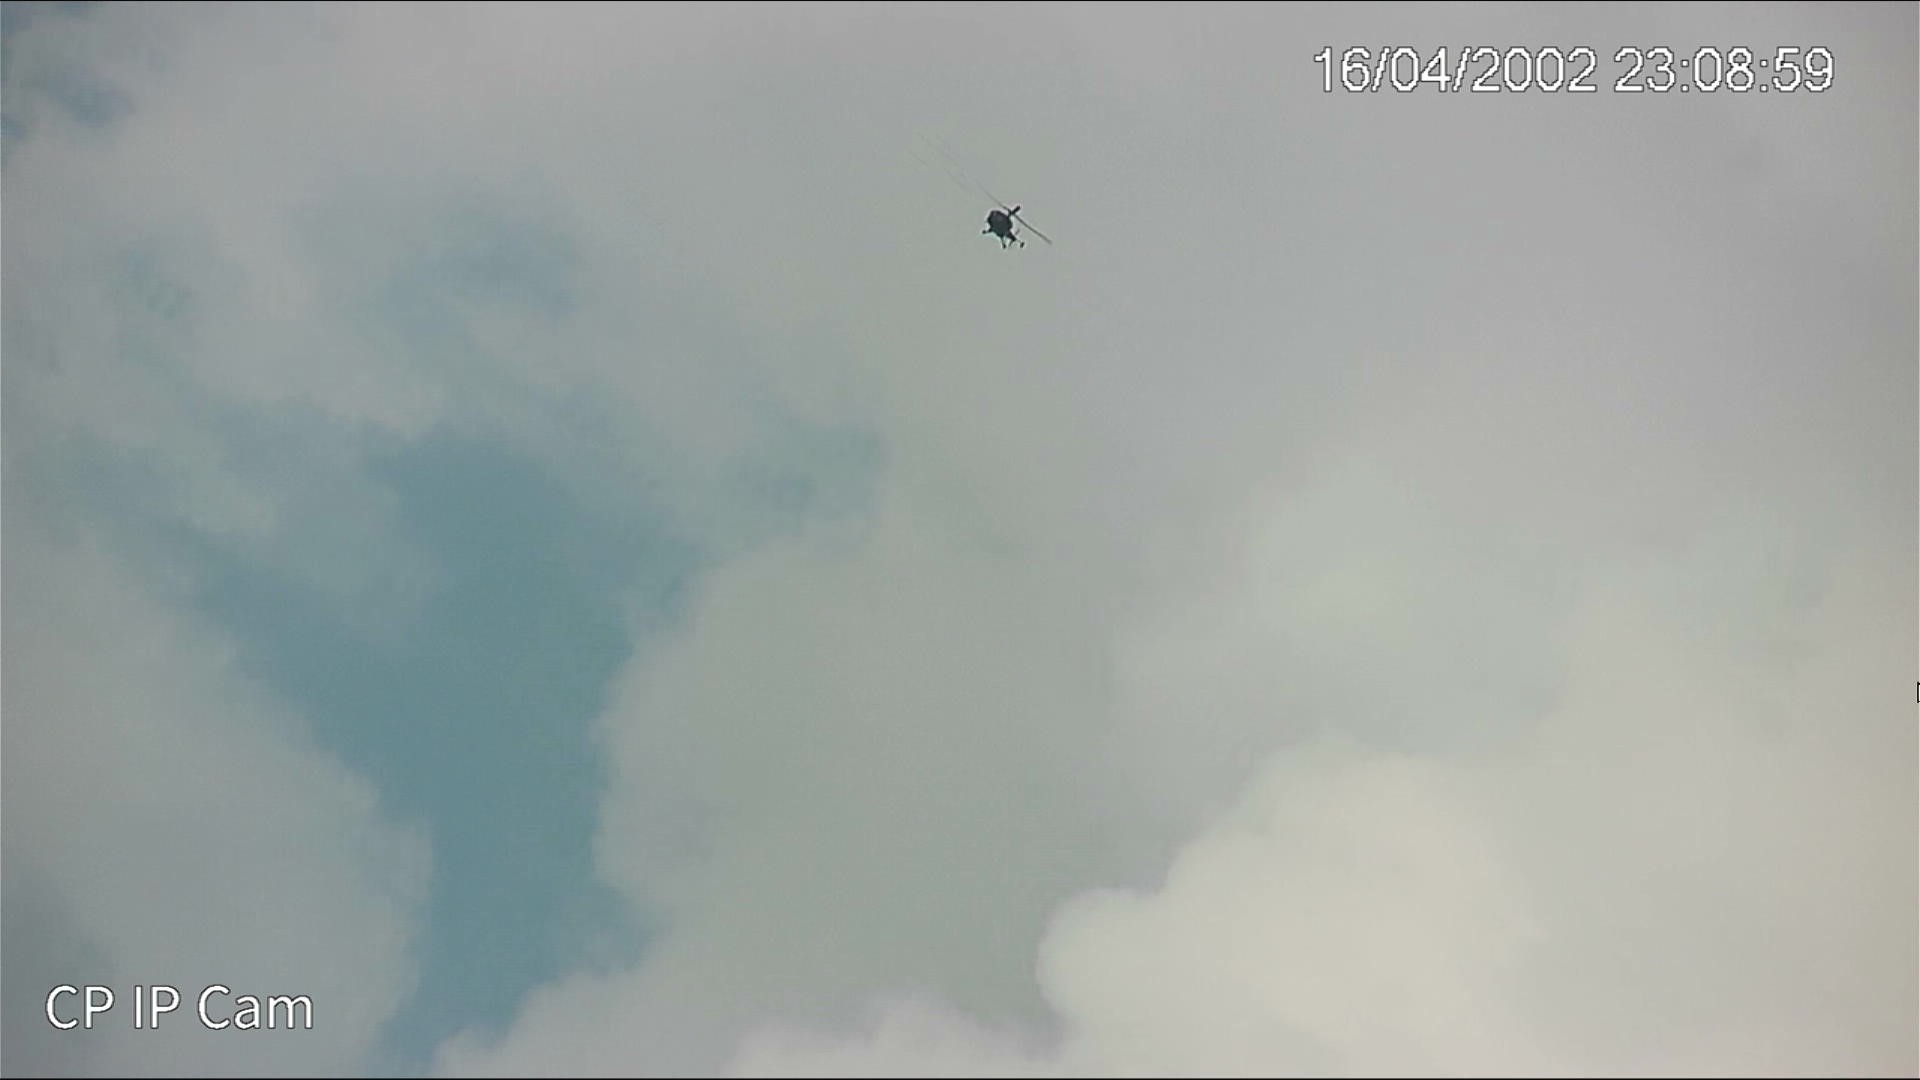SU_30: (967, 196, 1036, 258)
